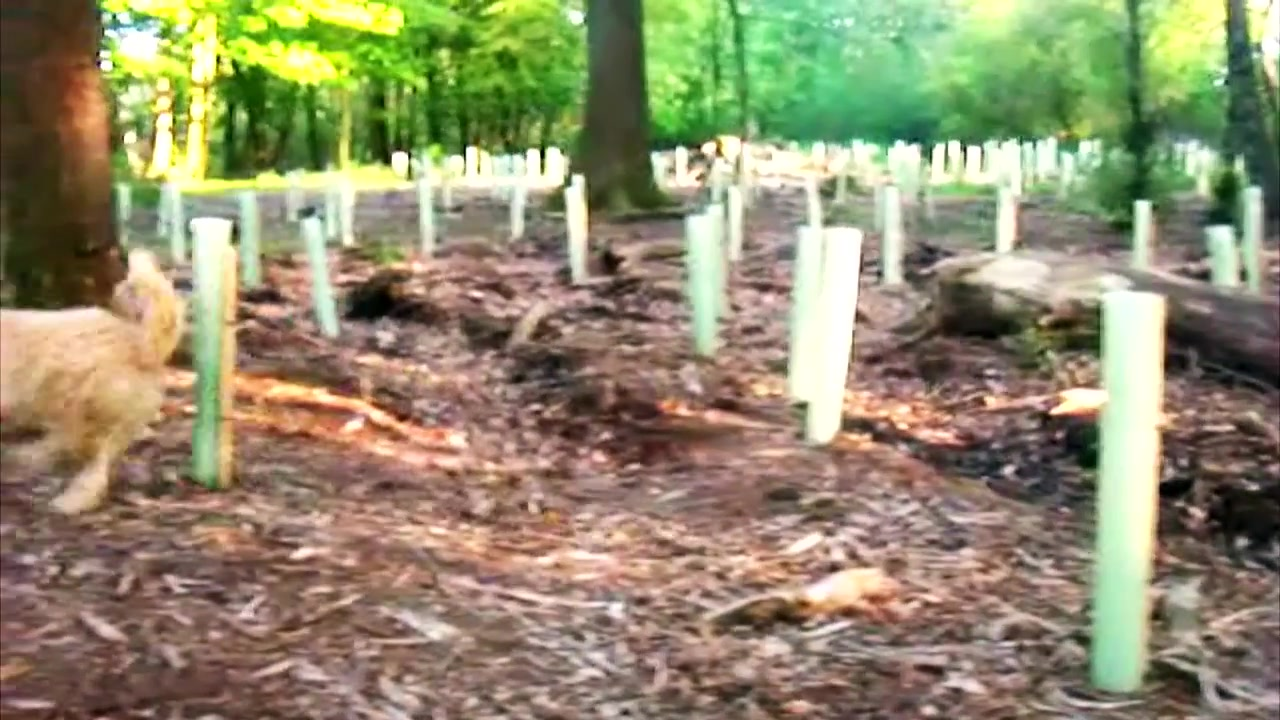dog: (2, 247, 193, 517)
